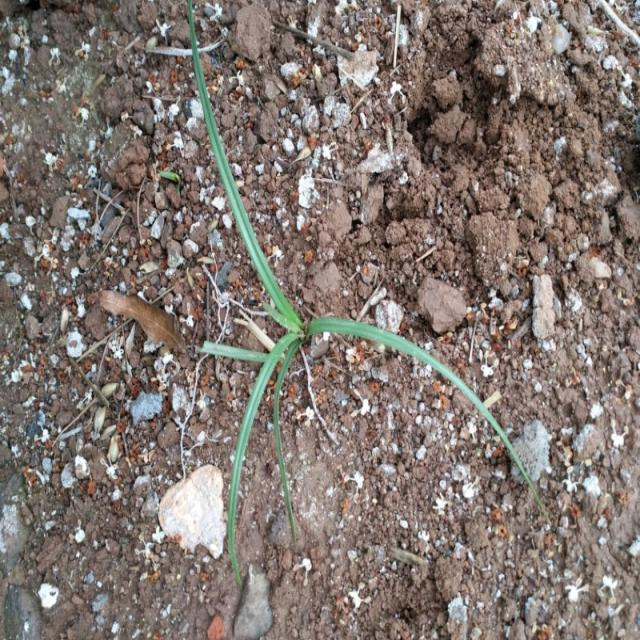sedge: (122, 45, 468, 528)
